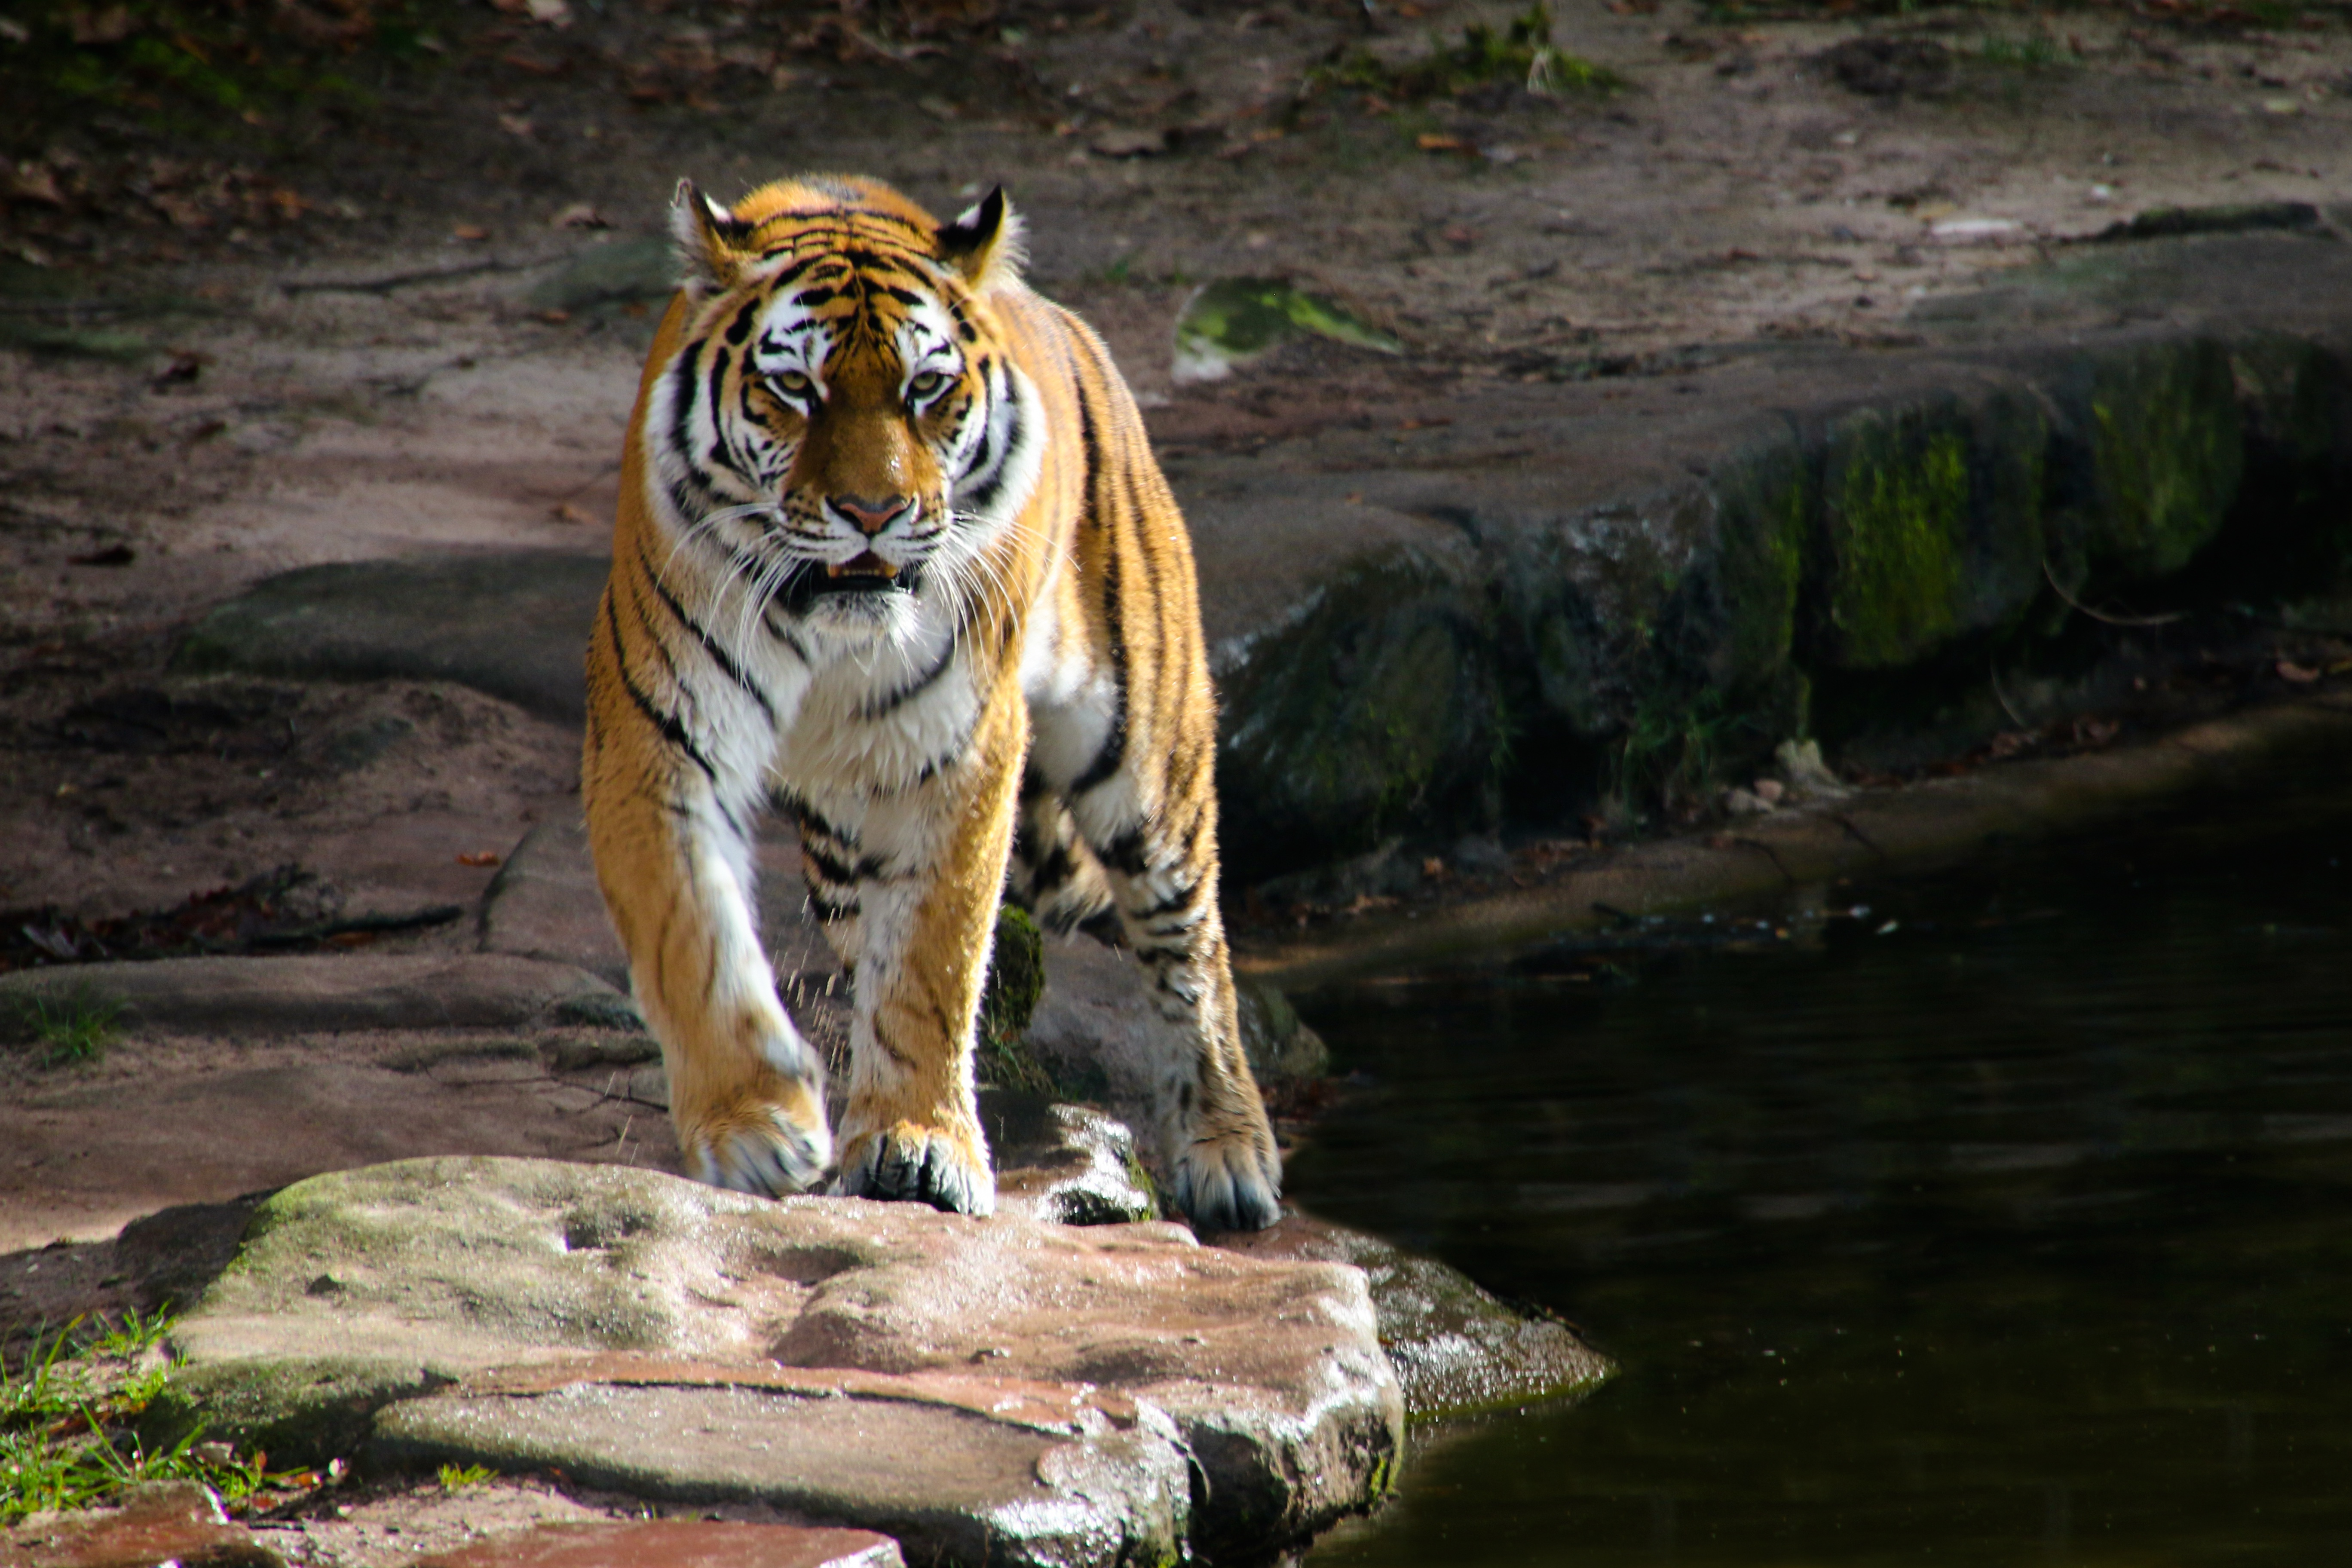tiger: (495, 142, 1335, 1305)
